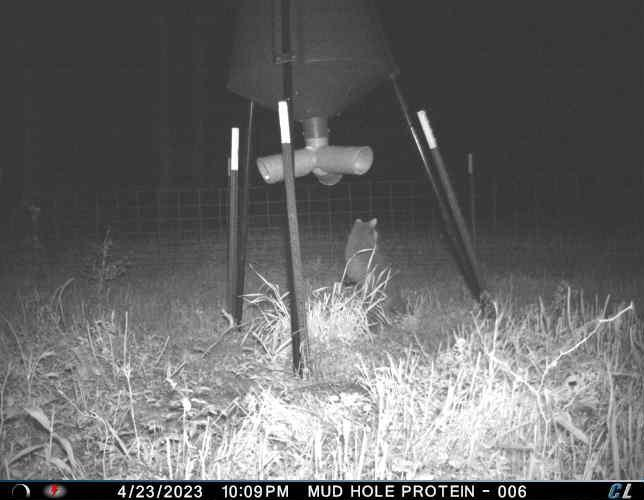Raccoon: (339, 216, 416, 325)
